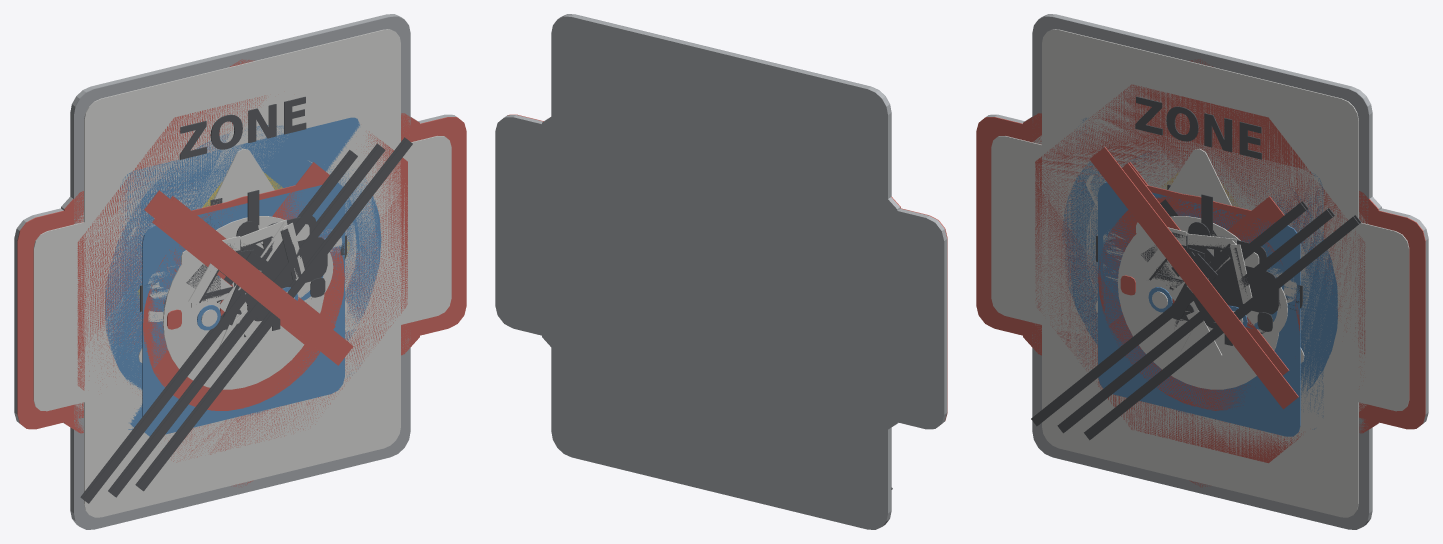
Rendered from signs.glb.
3 views of the same model, side by side, from view 1: azimuth 30°, elevation 25°; view 2: azimuth 150°, elevation 25°; view 3: azimuth 330°, elevation 25° (orthographic).
Visible parts, largest first — view 1: sign_B30, sign_EB10, sign_AB4, sign_B22a, sign_B52, sign_B53, sign_C1a, sign_C114, sign_B51, sign_C20a, sign_B3, sign_AB1 (+8 smaller); view 2: sign_AB4, sign_B30, sign_EB10, sign_AB1, sign_AB3a, sign_B0, sign_M6h, sign_generic, sign_C1a, sign_AB6; view 3: sign_B30, sign_EB10, sign_AB4, sign_B52, sign_B22a, sign_B53, sign_generic, sign_C114, sign_C20a, sign_B3, sign_B2a, sign_B6d (+8 smaller).
Part boxes in pixels (x1,y1,x2,y2): sign_B30: [70, 14, 410, 529]; sign_EB10: [14, 114, 466, 429]; sign_AB4: [75, 95, 407, 462]; sign_B22a: [105, 125, 381, 415]; sign_B52: [142, 183, 344, 436]; sign_B53: [82, 139, 412, 503]; sign_C1a: [119, 117, 361, 429]; sign_C114: [144, 190, 353, 365]; sign_B51: [80, 137, 406, 499]; sign_C20a: [138, 148, 347, 362]; sign_B3: [167, 216, 327, 329]; sign_AB1: [62, 59, 419, 433]; sign_AB4: [540, 67, 899, 479]; sign_B30: [551, 14, 891, 529]; sign_EB10: [495, 114, 947, 429]; sign_AB1: [539, 59, 898, 433]; sign_AB3a: [539, 113, 900, 481]; sign_B0: [575, 117, 864, 421]; sign_M6h: [607, 195, 831, 331]; sign_generic: [585, 106, 852, 440]; sign_C1a: [585, 104, 853, 441]; sign_AB6: [571, 117, 867, 397]; sign_B30: [1032, 14, 1372, 529]; sign_EB10: [976, 114, 1428, 429]; sign_AB4: [1033, 84, 1367, 463]; sign_B52: [1098, 182, 1300, 436]; sign_B22a: [1062, 128, 1337, 418]; sign_B53: [1031, 202, 1359, 440]; sign_generic: [1076, 119, 1323, 428]; sign_C114: [1089, 147, 1298, 409]; sign_C20a: [1095, 148, 1304, 362]; sign_B3: [1120, 220, 1279, 331]; sign_B2a: [1122, 163, 1289, 375]; sign_B6d: [1109, 196, 1284, 344].
Bounding box in the file's own units: 1 × 0.9375 × 0.04.
